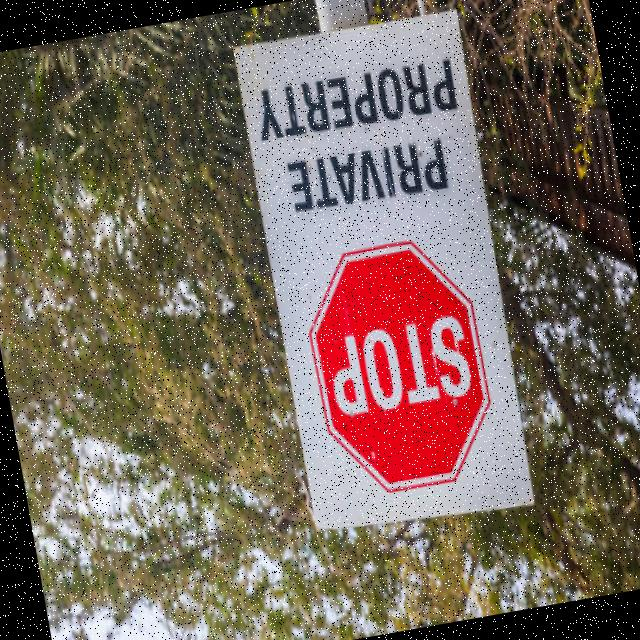stop: (284, 219, 509, 510)
